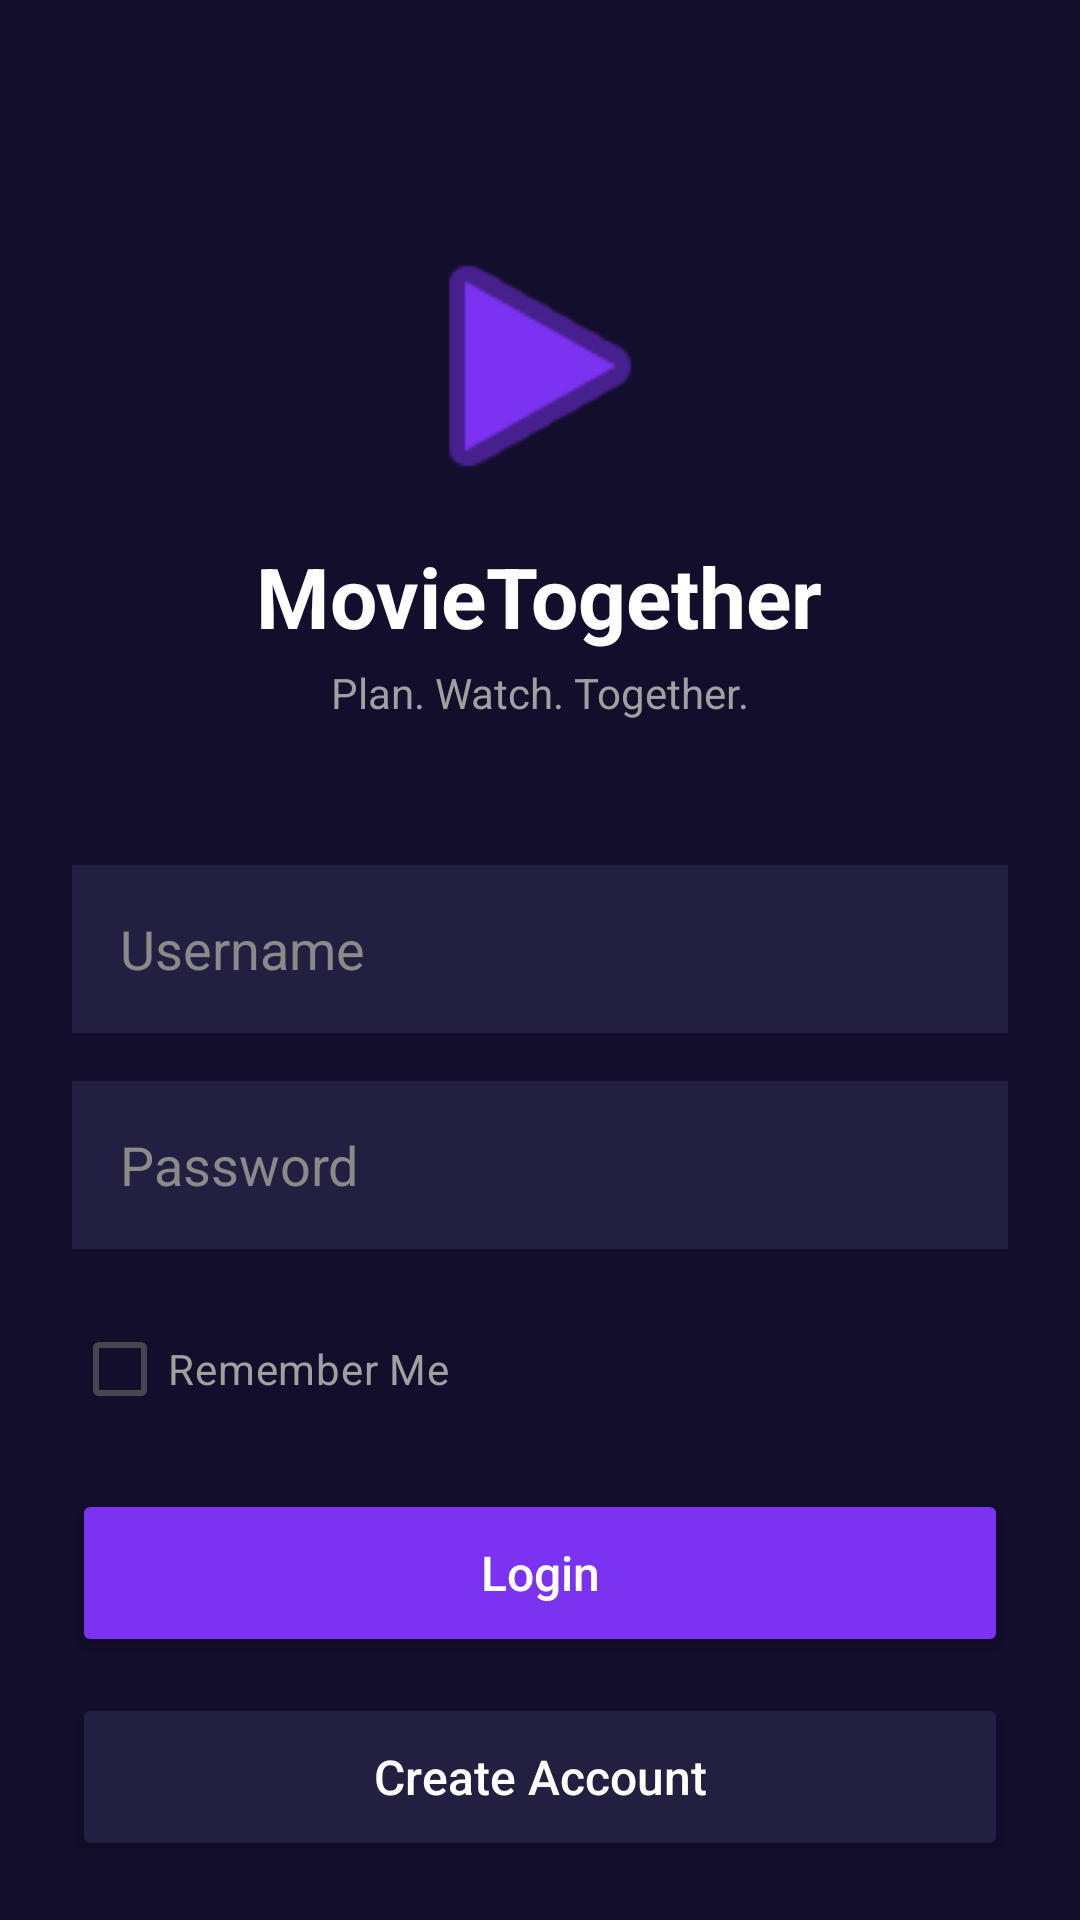

Where to tap for icons on this 1080 × 1920 app screen, as point (x, y):
play: point (540, 366)
